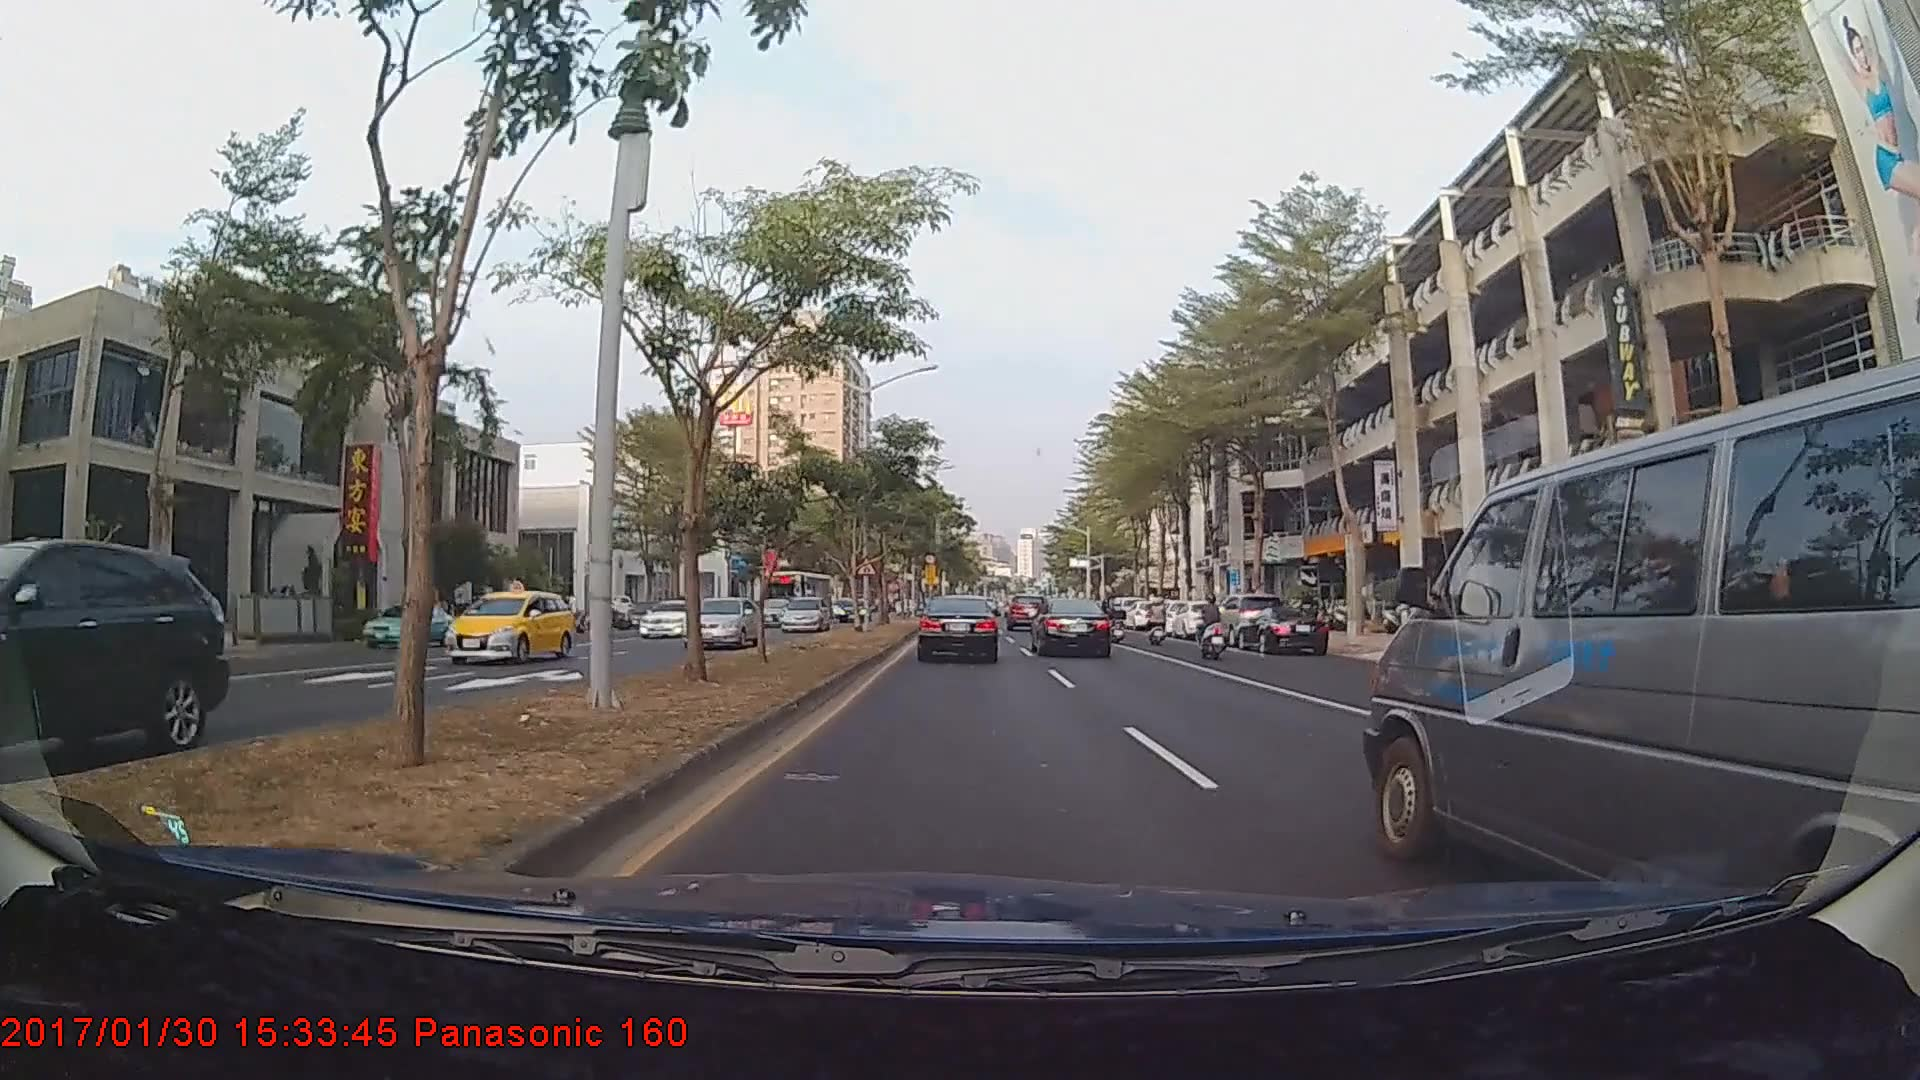rider: (1191, 592, 1238, 662), (1144, 588, 1173, 646)
vehicle: (1361, 400, 1905, 911), (0, 537, 230, 796), (441, 588, 574, 666), (917, 593, 1001, 665), (1031, 597, 1112, 658), (759, 569, 835, 628), (358, 600, 451, 647), (1237, 604, 1328, 652), (1209, 590, 1287, 645), (684, 595, 760, 648), (637, 598, 702, 638), (1169, 600, 1228, 639), (780, 593, 829, 632), (1006, 593, 1046, 630), (834, 596, 867, 621)
